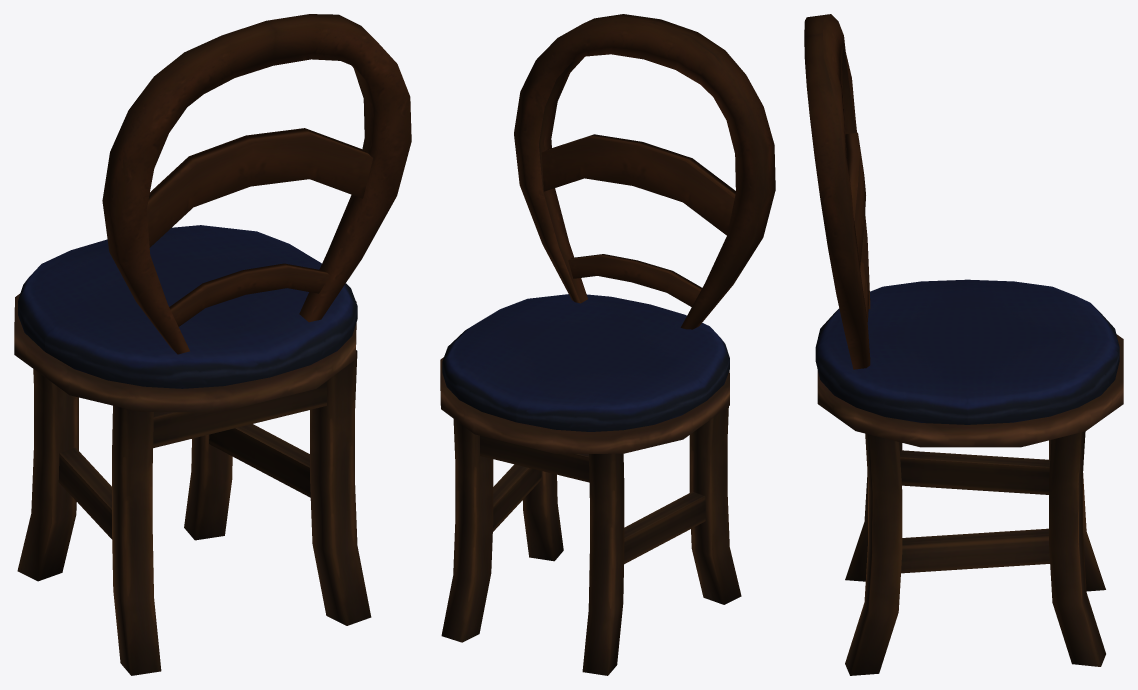
File: Chair_F.fbx
3 views of the same model, side by side, from view 1: azimuth 30°, elevation 25°; view 2: azimuth 150°, elevation 25°; view 3: azimuth 270°, elevation 25° (orthographic). The views are drawn at different scales.
Parts seen in each view (by area): view 1: Chair_Backing_B, Chair_Cushion_Base_B, Chair_Legs_A, Chair_Legs_A_Support, Chair_Base_B; view 2: Chair_Backing_B, Chair_Cushion_Base_B, Chair_Legs_A, Chair_Legs_A_Support, Chair_Base_B; view 3: Chair_Cushion_Base_B, Chair_Legs_A, Chair_Backing_B, Chair_Legs_A_Support, Chair_Base_B.
Boxes of the visible parts, <box> form: Chair_Backing_B: <box>102,14,411,354</box>; Chair_Cushion_Base_B: <box>18,225,357,388</box>; Chair_Legs_A: <box>17,350,371,675</box>; Chair_Legs_A_Support: <box>58,381,326,539</box>; Chair_Base_B: <box>14,293,356,412</box>; Chair_Backing_B: <box>514,14,775,329</box>; Chair_Cushion_Base_B: <box>442,294,729,431</box>; Chair_Legs_A: <box>441,406,741,675</box>; Chair_Legs_A_Support: <box>480,435,705,564</box>; Chair_Base_B: <box>440,357,729,453</box>; Chair_Cushion_Base_B: <box>815,279,1119,424</box>; Chair_Legs_A: <box>845,431,1105,675</box>; Chair_Backing_B: <box>804,14,870,369</box>; Chair_Legs_A_Support: <box>900,450,1049,573</box>; Chair_Base_B: <box>817,334,1123,447</box>.
Size of the model in its own units: 5.84 by 11.99 by 5.9.
